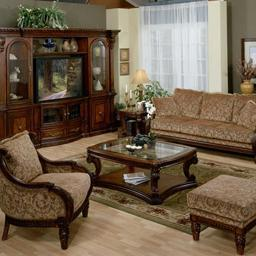Ventana: (143, 16, 209, 91)
